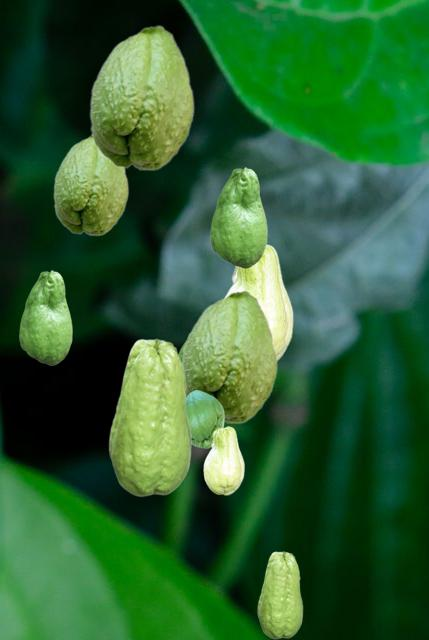sayote: (89, 24, 194, 170), (108, 338, 191, 496), (181, 289, 277, 423), (224, 244, 292, 361), (53, 134, 128, 235), (210, 167, 266, 267), (19, 270, 71, 364), (257, 551, 302, 638), (203, 426, 243, 494), (187, 390, 223, 447), (179, 336, 187, 358)
